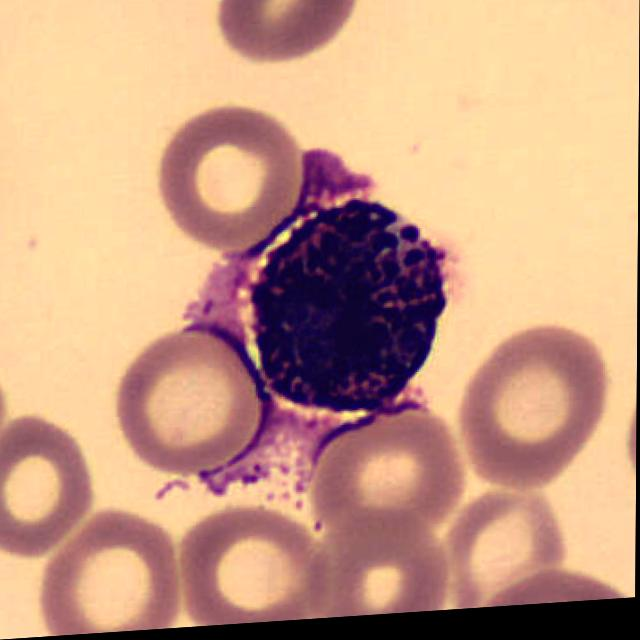basophil: (225, 203, 448, 423)
rbc: (91, 289, 277, 482), (459, 300, 605, 483), (152, 74, 304, 245), (298, 466, 445, 620), (45, 478, 171, 637), (306, 393, 463, 518), (187, 494, 312, 627), (447, 466, 572, 593), (0, 386, 97, 547), (216, 0, 363, 64), (498, 549, 634, 606)
